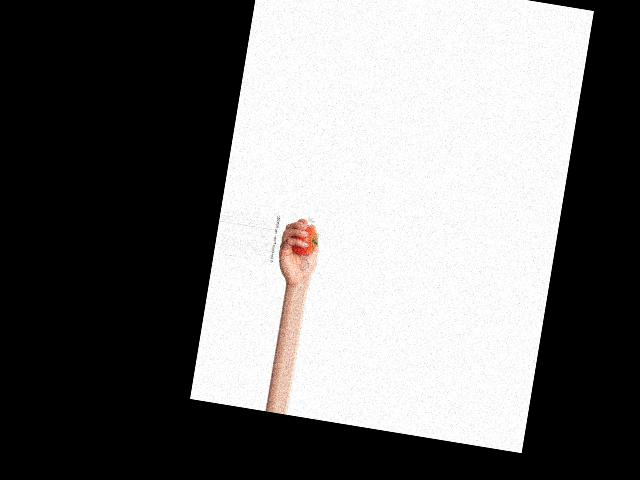tomato: (289, 223, 319, 256)
